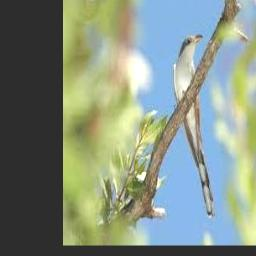Cuckoo: (173, 35, 214, 217)
